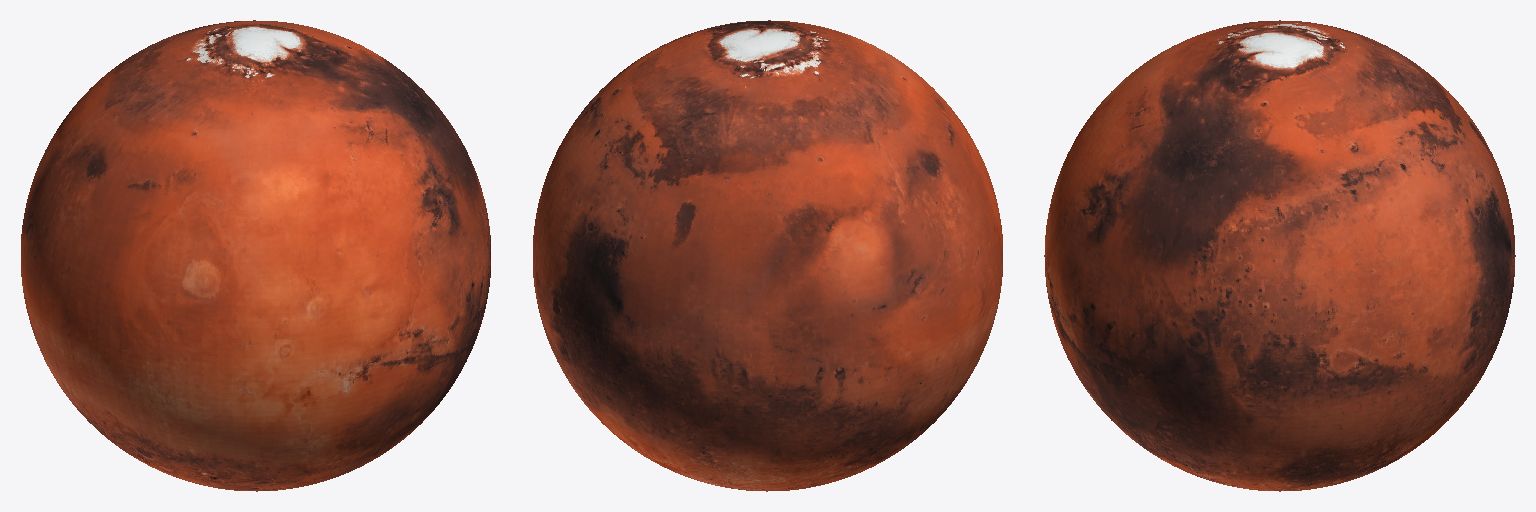
The picture shows the model from 3 angles: view 1: azimuth 30°, elevation 25°; view 2: azimuth 150°, elevation 25°; view 3: azimuth 270°, elevation 25°; orthographic projection.
Visible parts, largest first — view 1: Sphere; view 2: Sphere; view 3: Sphere.
Boxes of the visible parts, box(x1,y1,x2,y2) form: Sphere: box(21, 20, 490, 491); Sphere: box(533, 20, 1002, 491); Sphere: box(1044, 20, 1515, 491).
Bounding box in the file's own units: 1.13 × 1.13 × 1.13.
1 materials, 1 textured.